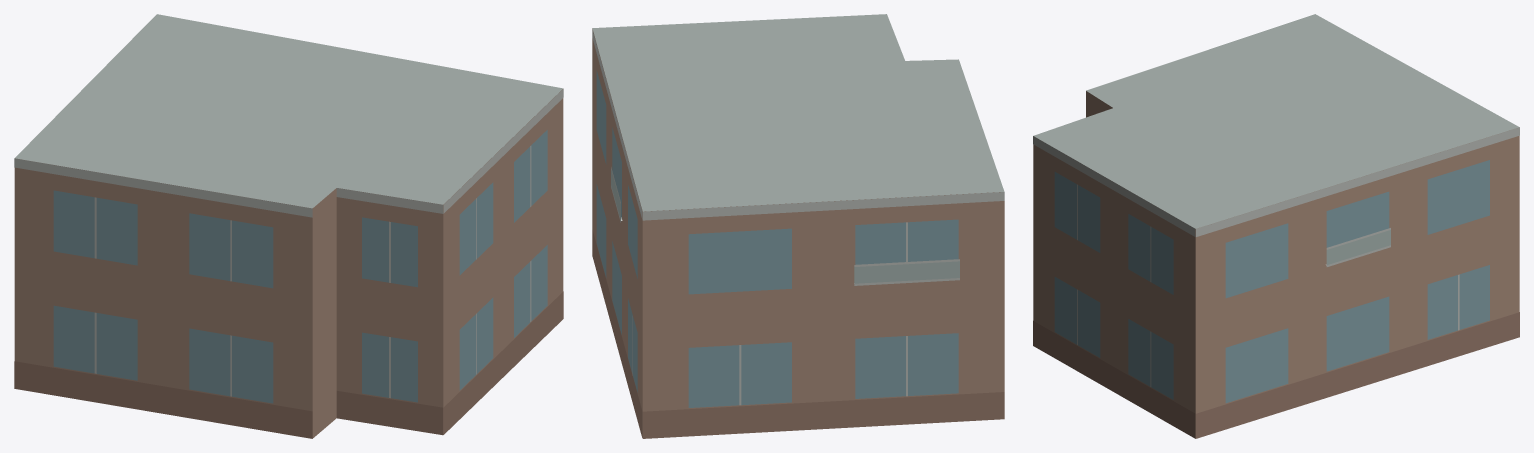
Rendered from survey-upis-32888655.glb.
3 views of the same model, side by side, from view 1: azimuth 30°, elevation 25°; view 2: azimuth 150°, elevation 25°; view 3: azimuth 270°, elevation 25° (orthographic). The views are drawn at different scales.
Visible parts, largest first — view 1: survey-upis-32888655.tmp; view 2: survey-upis-32888655.tmp; view 3: survey-upis-32888655.tmp.
Boxes of the visible parts, box(x1,y1,x2,y2) form: survey-upis-32888655.tmp: box(14, 14, 563, 438); survey-upis-32888655.tmp: box(592, 14, 1004, 438); survey-upis-32888655.tmp: box(1033, 14, 1519, 438).
Bounding box in the file's own units: 13.4 × 6.1 × 12.82.
